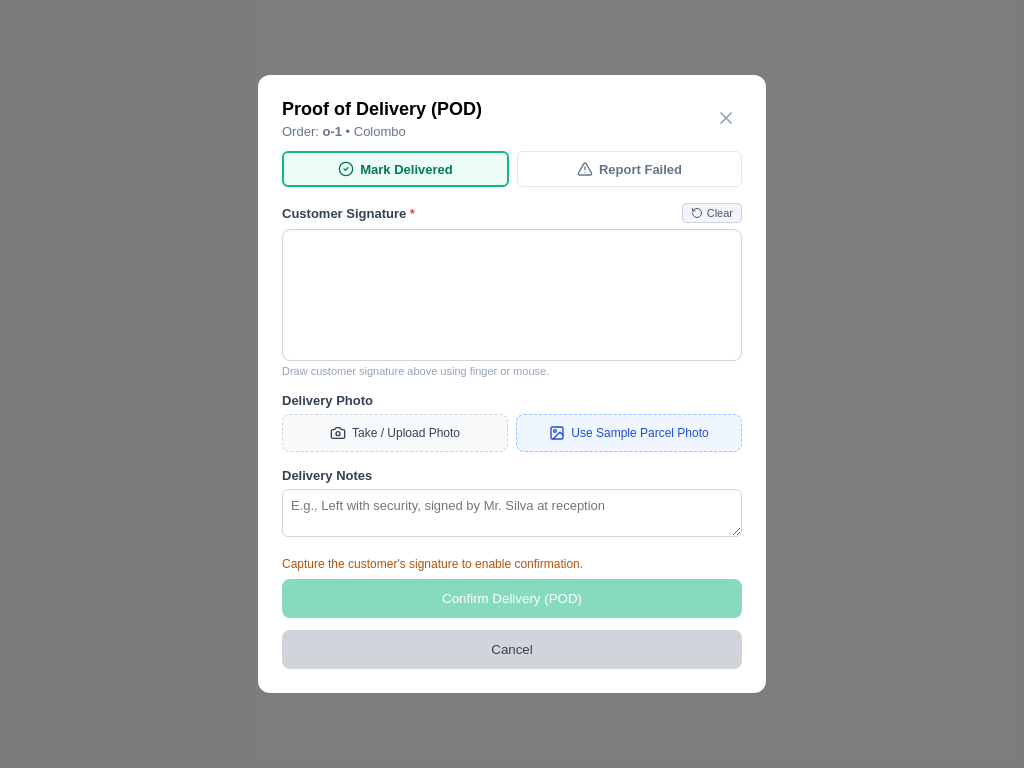
ProofOfDeliveryModal › a rejected submission shows the reason and lets the driver retry
Press the mouse on the drawing: (512, 295) x1=283 y1=230 x2=741 y2=360
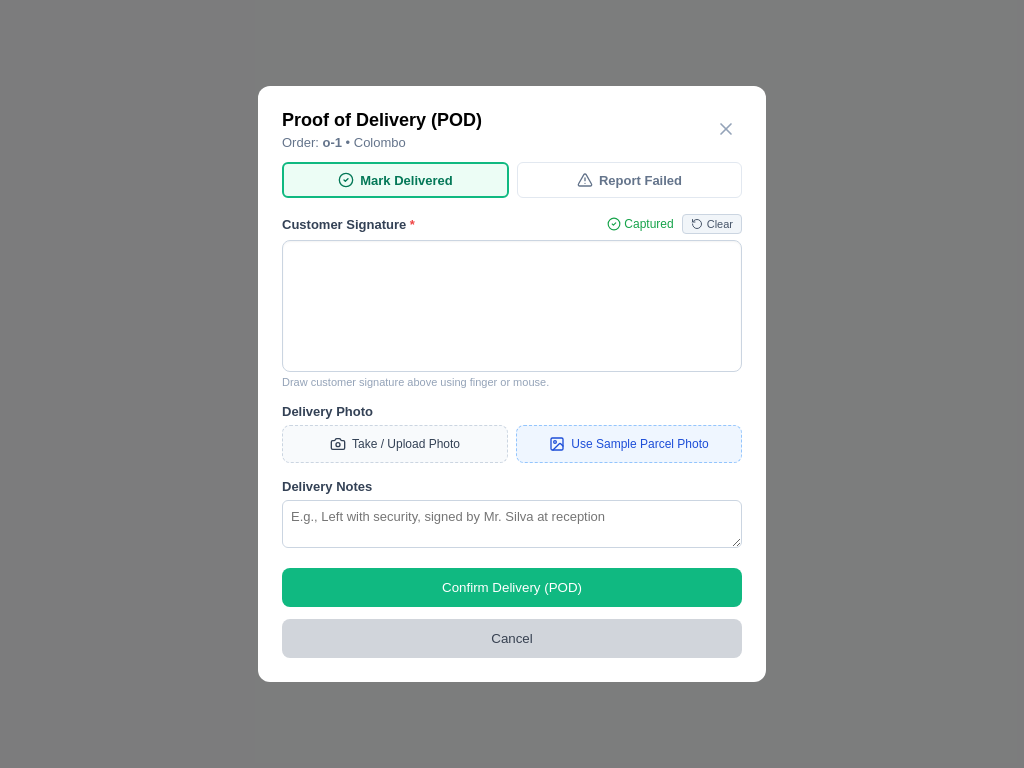
Click the button "Confirm Delivery (POD)": (512, 588) x1=282 y1=568 x2=742 y2=607
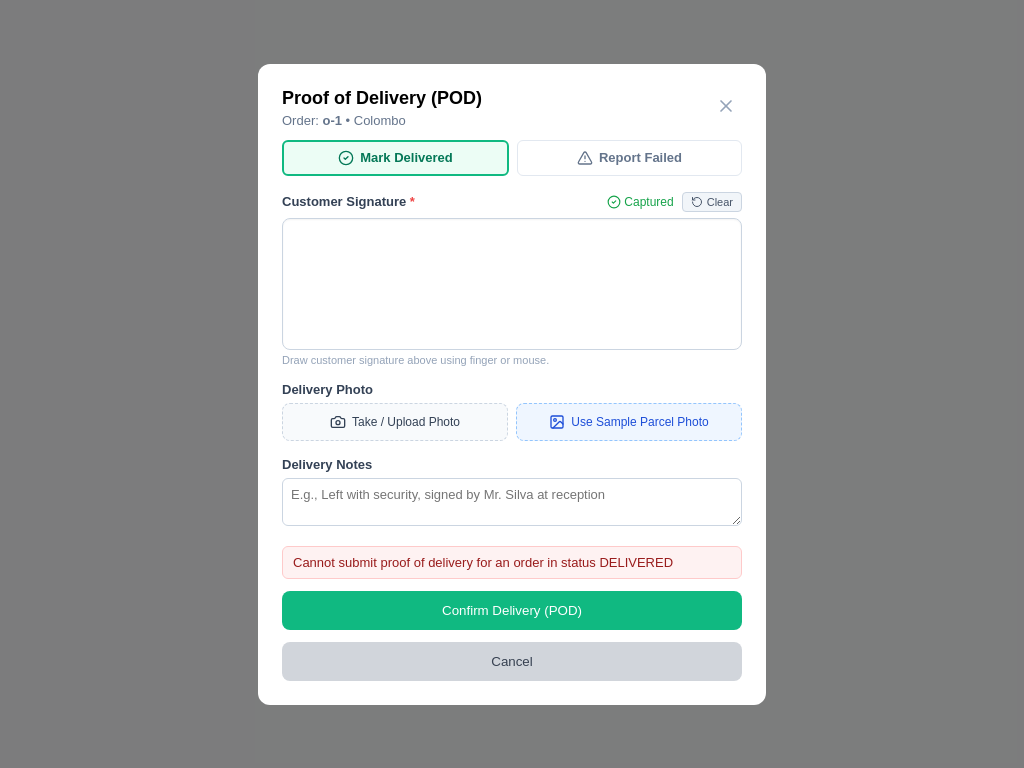
Result: the button "Confirm Delivery (POD)" is enabled at x1=282 y1=590 x2=742 y2=630
Result: the message shows "status DELIVERED" at x1=293 y1=554 x2=673 y2=570
